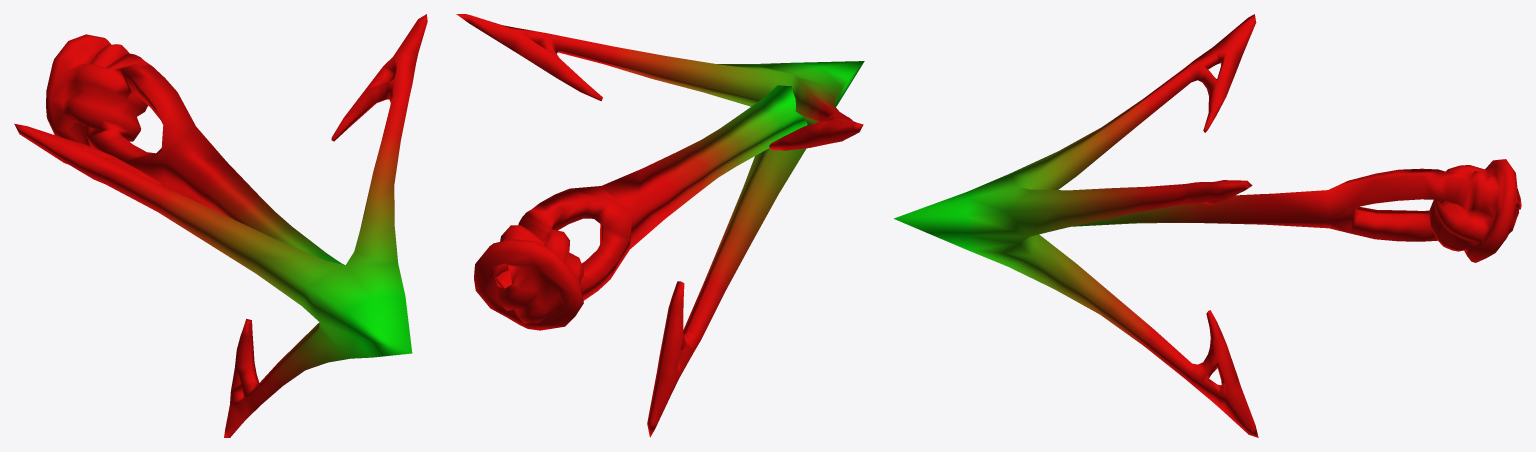
File: mdlHarpoon.fbx
The picture shows the model from 3 angles, left to right: view 1: azimuth 30°, elevation 25°; view 2: azimuth 150°, elevation 25°; view 3: azimuth 270°, elevation 25°; orthographic projection. The views are drawn at different scales.
Visible parts, largest first — view 1: meshHarpoon; view 2: meshHarpoon; view 3: meshHarpoon.
Boxes of the visible parts, <box> form: meshHarpoon: <box>14,14,427,437</box>; meshHarpoon: <box>456,14,864,437</box>; meshHarpoon: <box>894,14,1521,437</box>.
Bounding box in the file's own units: 0.316 × 0.2773 × 0.4642.
